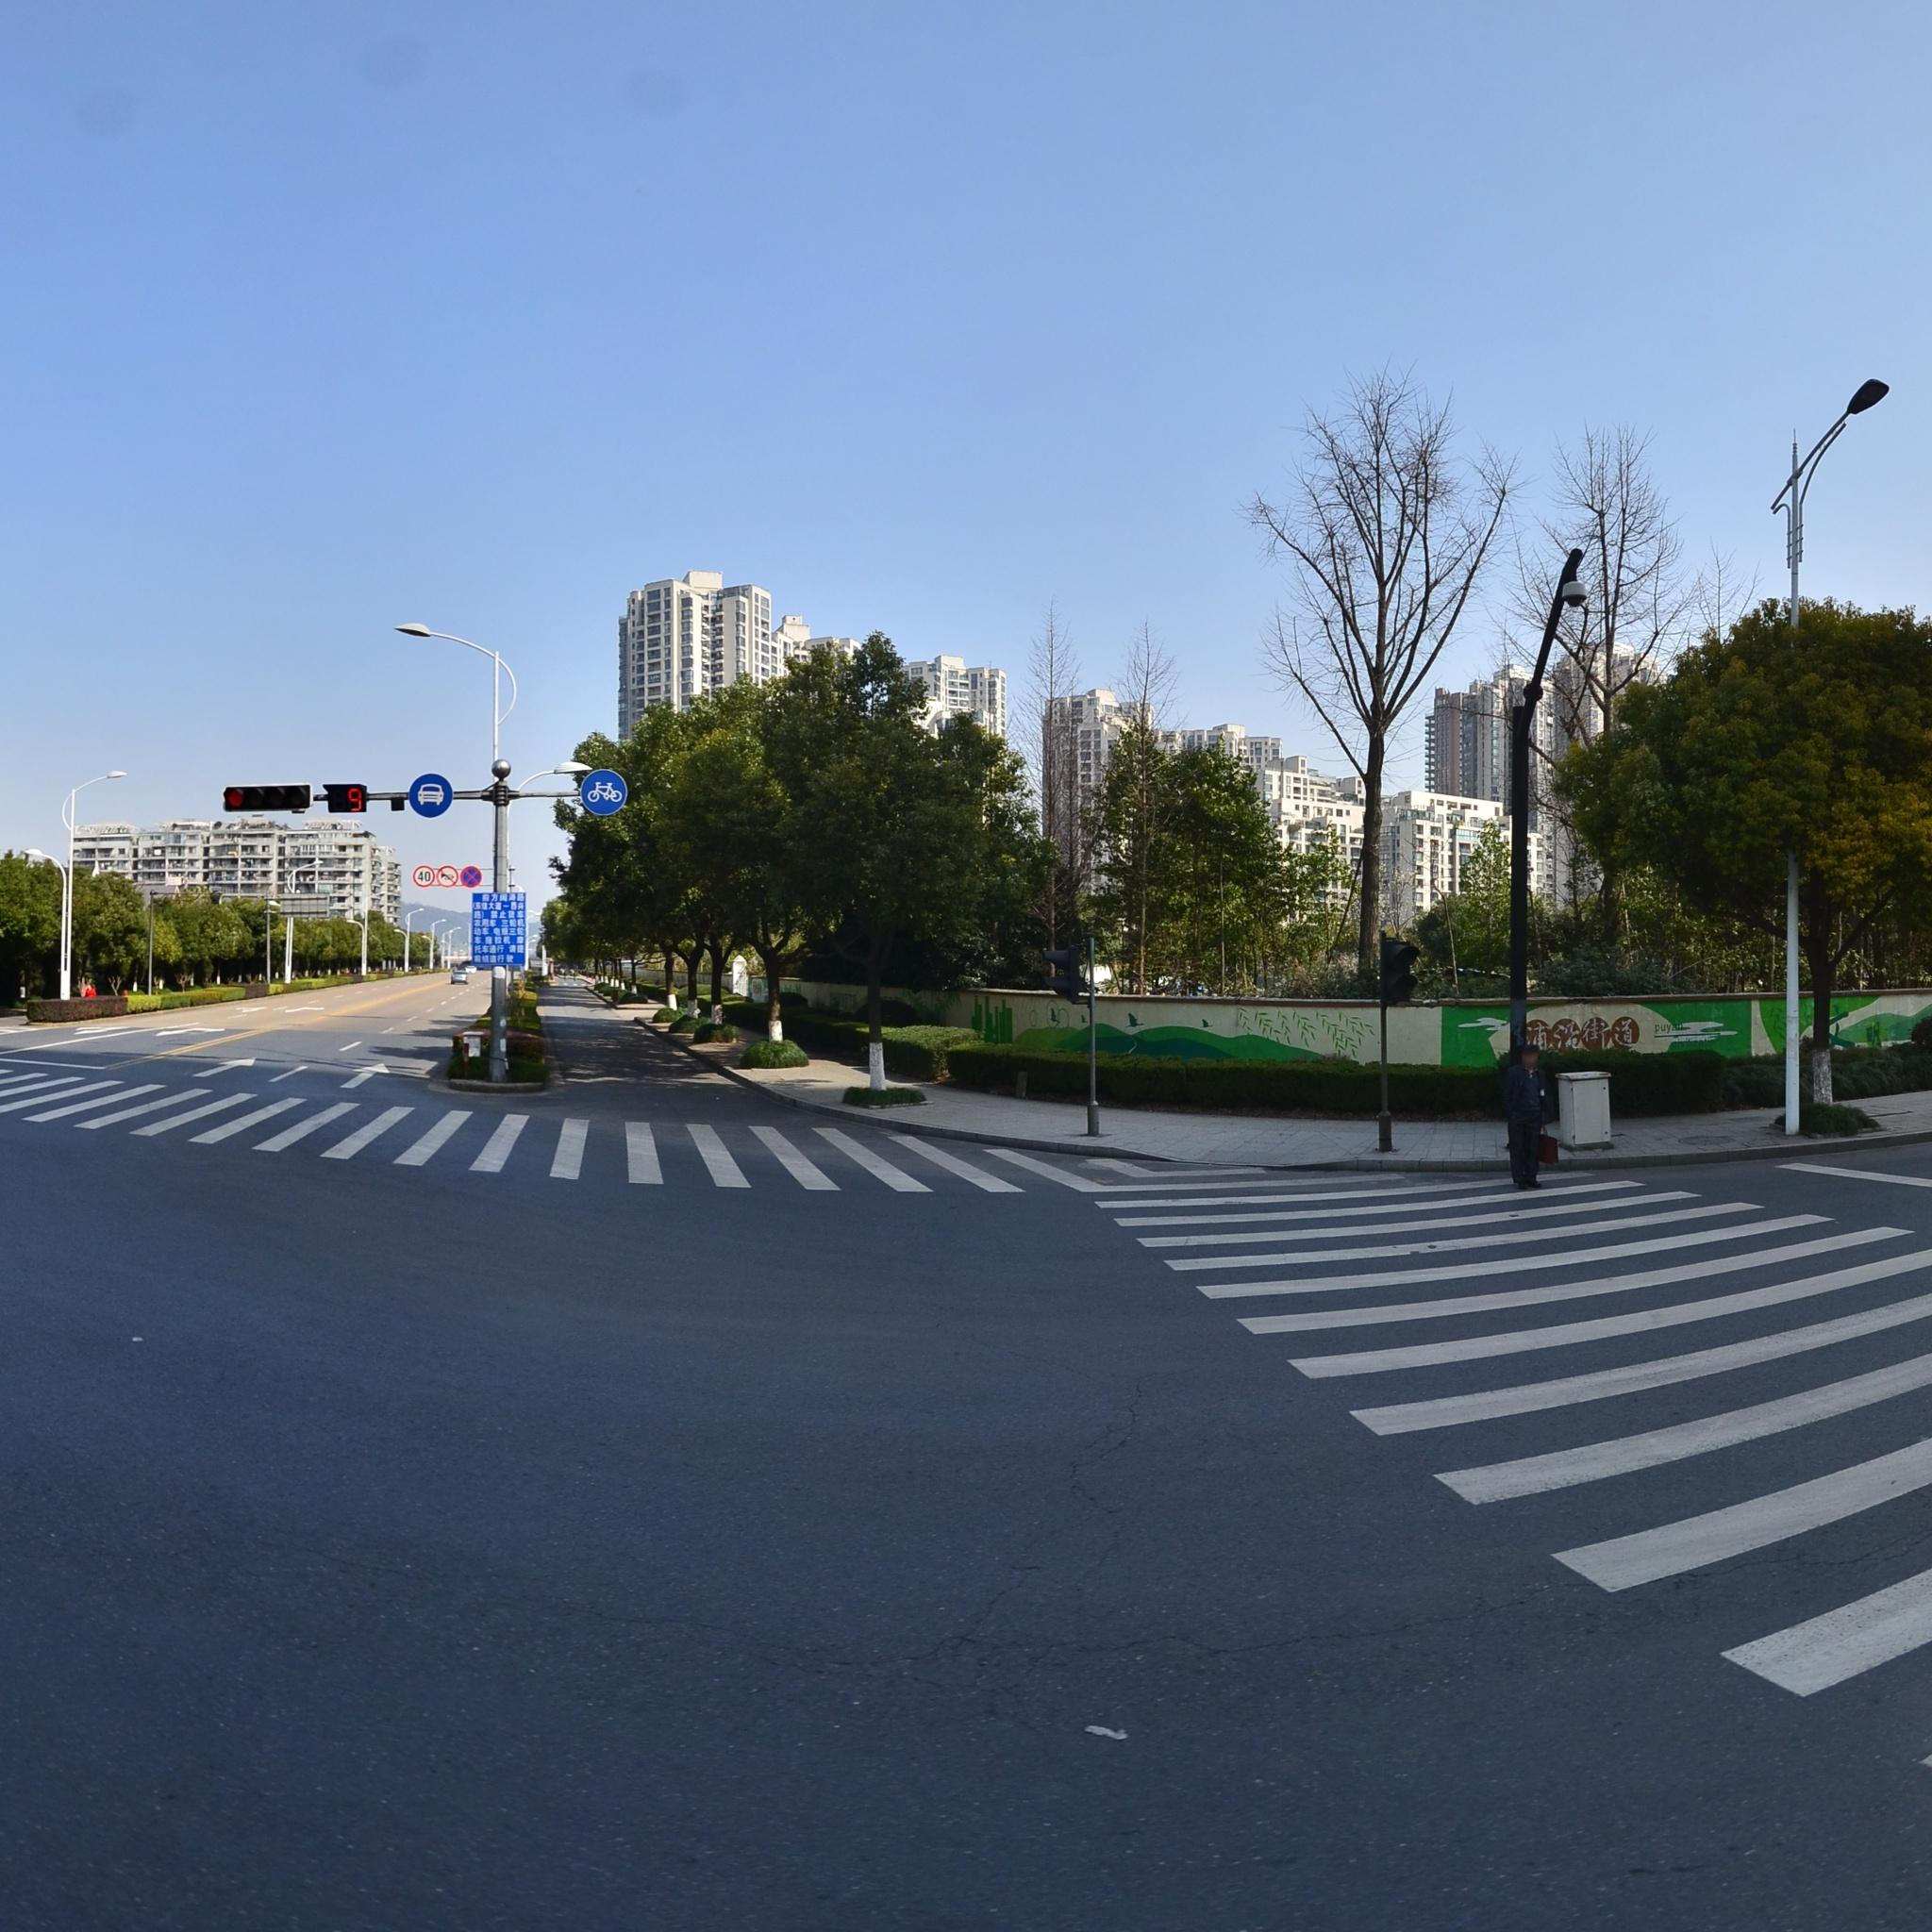i2: (577, 770, 626, 817)
i4: (409, 773, 453, 819)
p11: (439, 867, 458, 886)
pl40: (414, 865, 433, 886)
pn: (462, 869, 485, 888)
